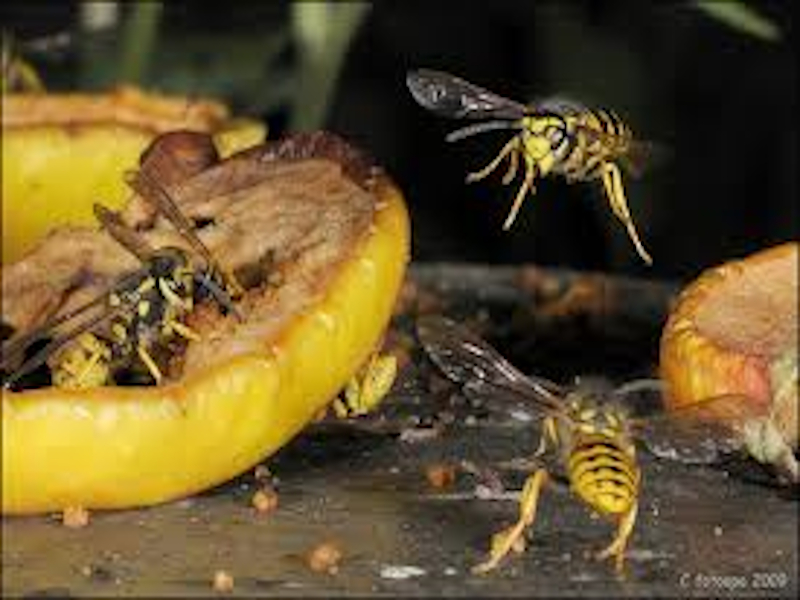chax: (440, 325, 731, 598), (391, 56, 692, 267), (8, 211, 153, 414), (140, 191, 262, 327)
